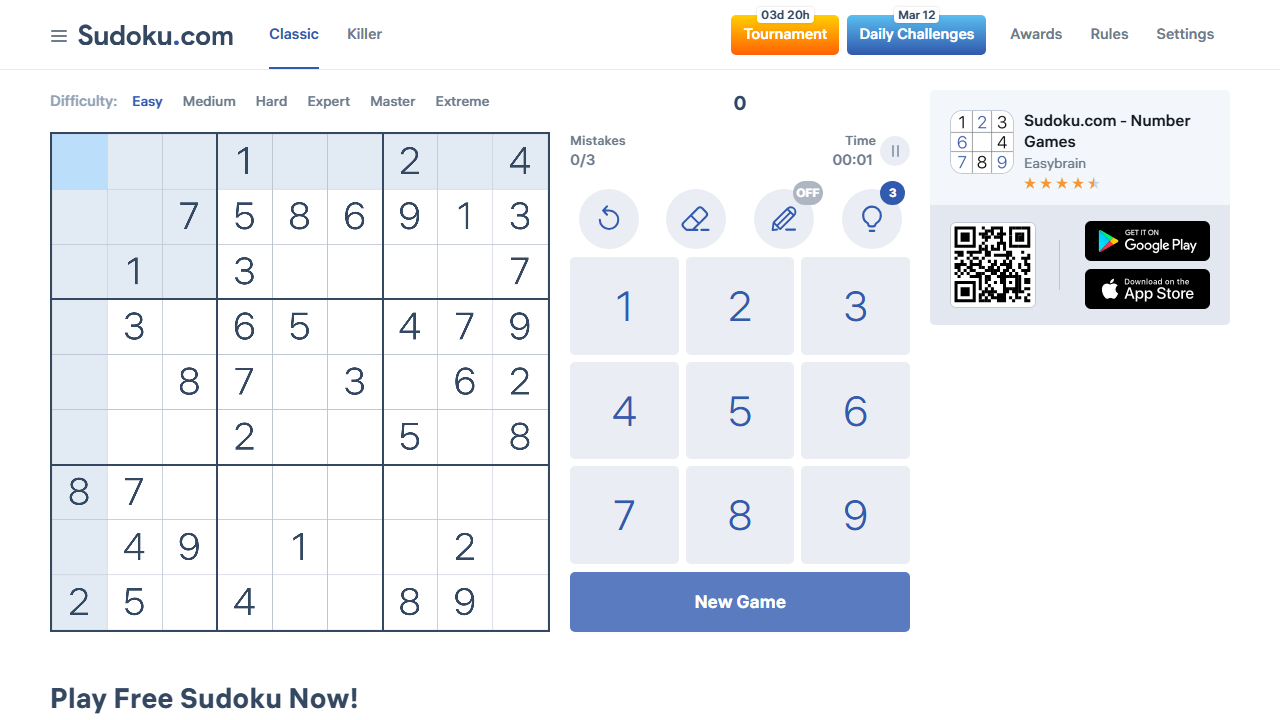sudoku: (51, 132, 549, 631)
